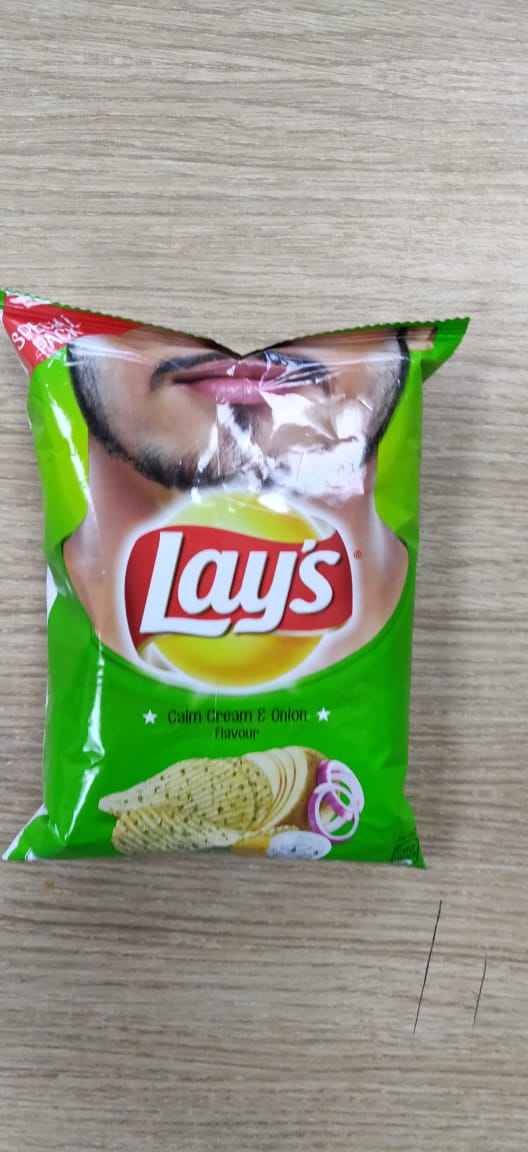lays chips: (3, 260, 492, 913)
